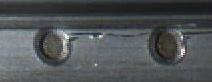joints: (146, 26, 188, 65), (33, 26, 72, 66)
